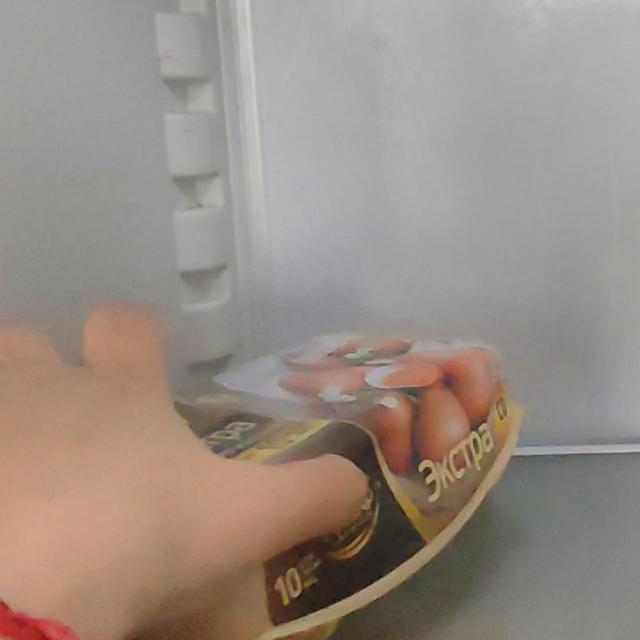egg: (0, 319, 505, 640)
